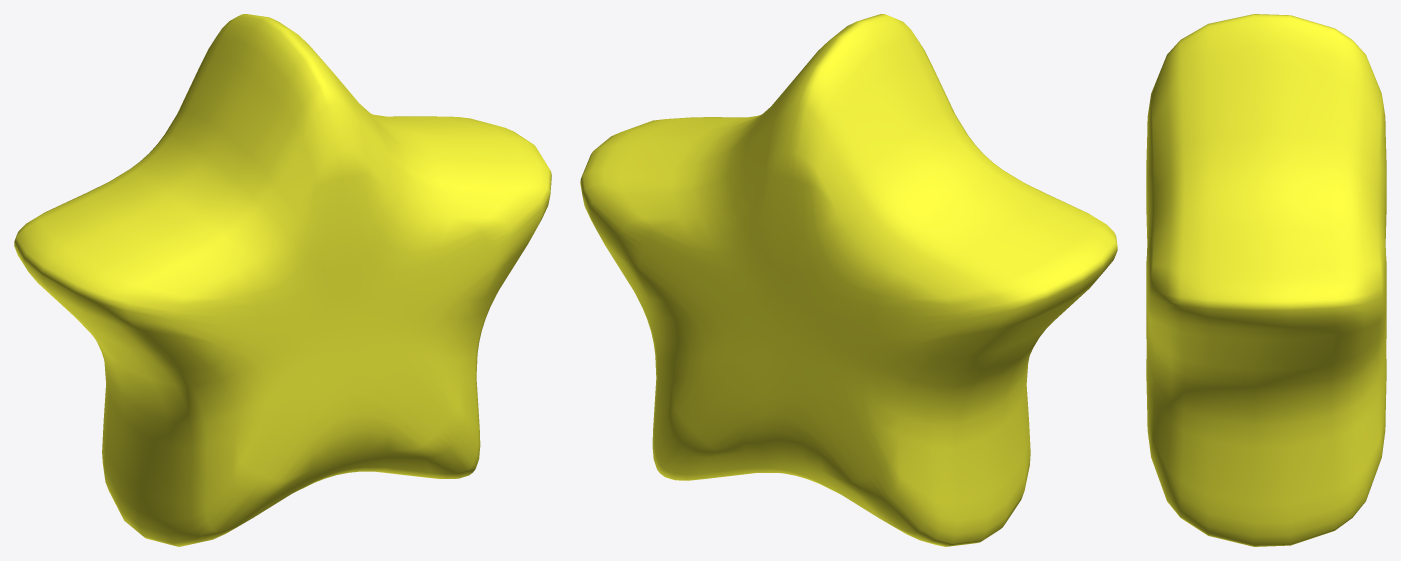
The model's file is xingxing.fbx.
3 renders of one model, left to right at view 1: azimuth 30°, elevation 25°; view 2: azimuth 150°, elevation 25°; view 3: azimuth 270°, elevation 25°, orthographic. The views are drawn at different scales.
Visible parts, largest first — view 1: pCylinder15; view 2: pCylinder15; view 3: pCylinder15.
Part boxes in pixels (<box>): pCylinder15: <box>14,14,551,546</box>; pCylinder15: <box>580,14,1117,546</box>; pCylinder15: <box>1146,14,1386,546</box>.
Size of the model in its own units: 2.08 by 0.9134 by 1.91.
